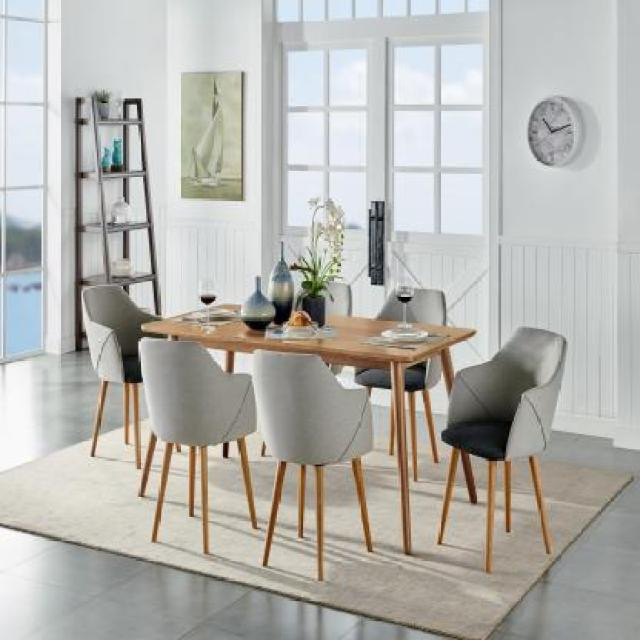floor: (0, 351, 640, 640), (438, 455, 547, 614), (100, 382, 123, 453)
